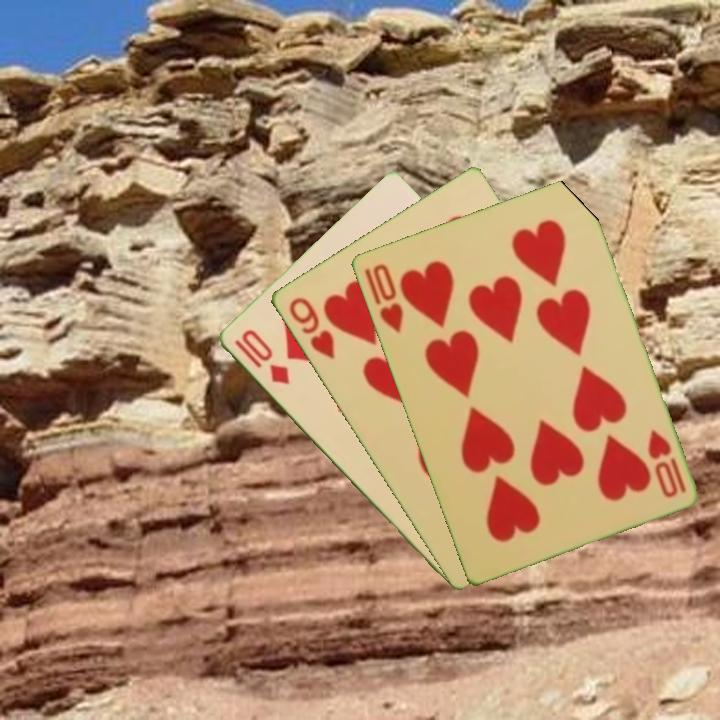10d: (230, 325, 293, 388)
10h: (643, 426, 689, 501), (368, 259, 406, 337)
9h: (285, 293, 337, 363)
